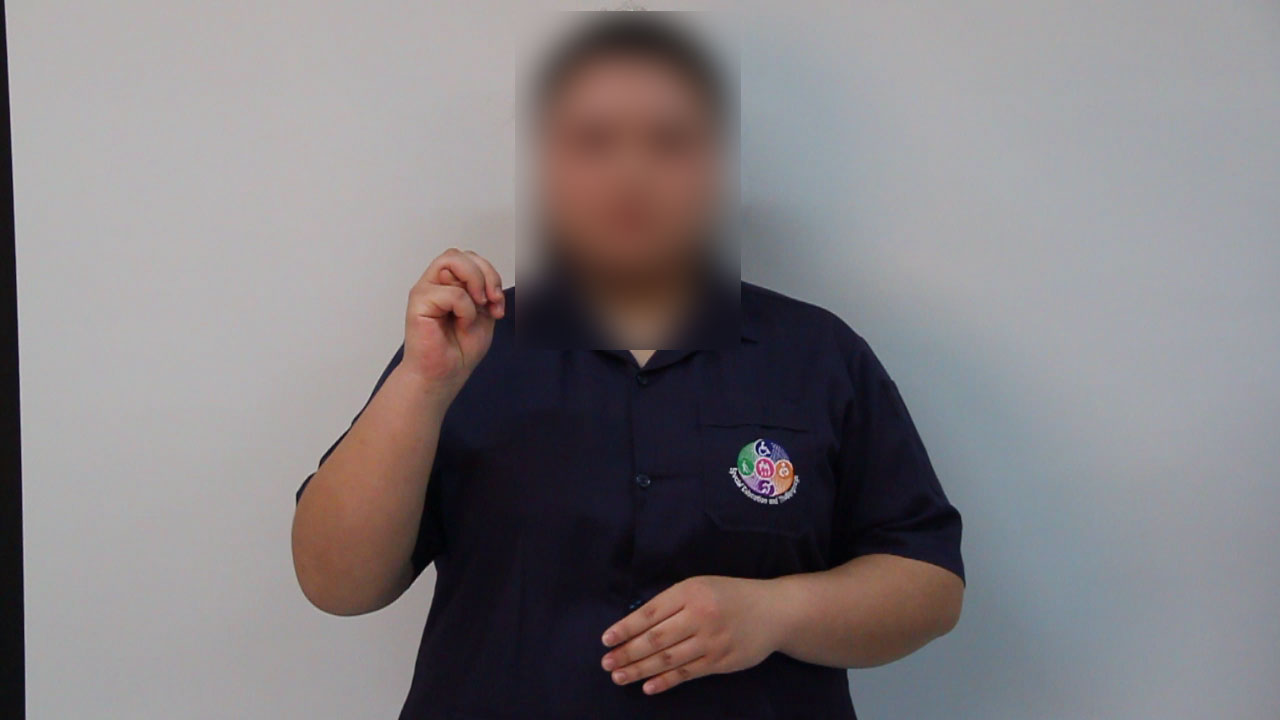mor: (398, 225, 512, 393)
